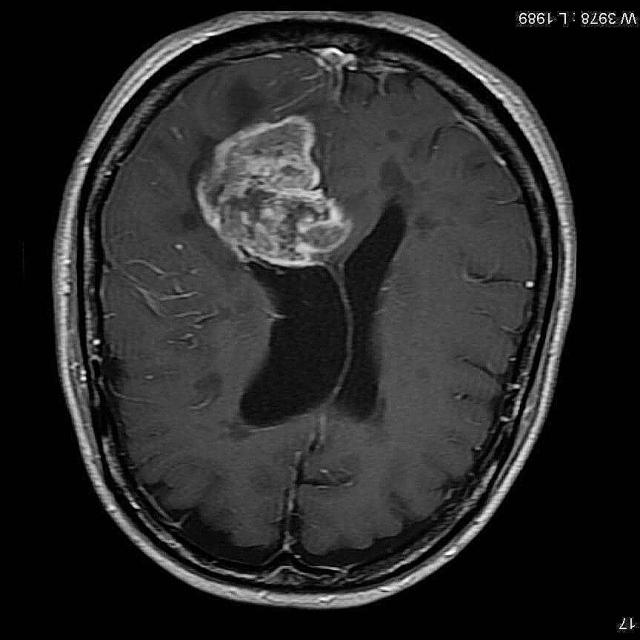Tumor-Cell: (198, 126, 360, 263)
